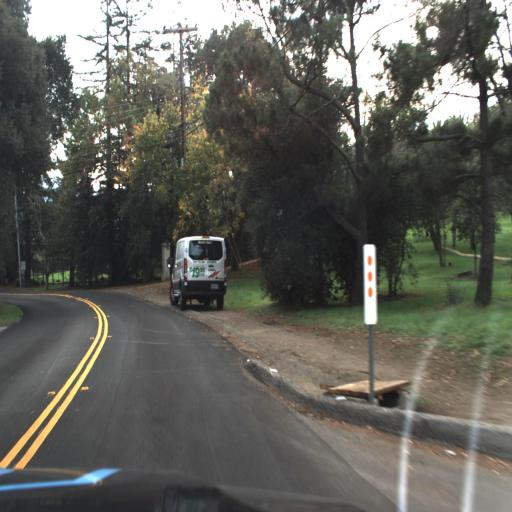truck: (169, 233, 226, 307)
